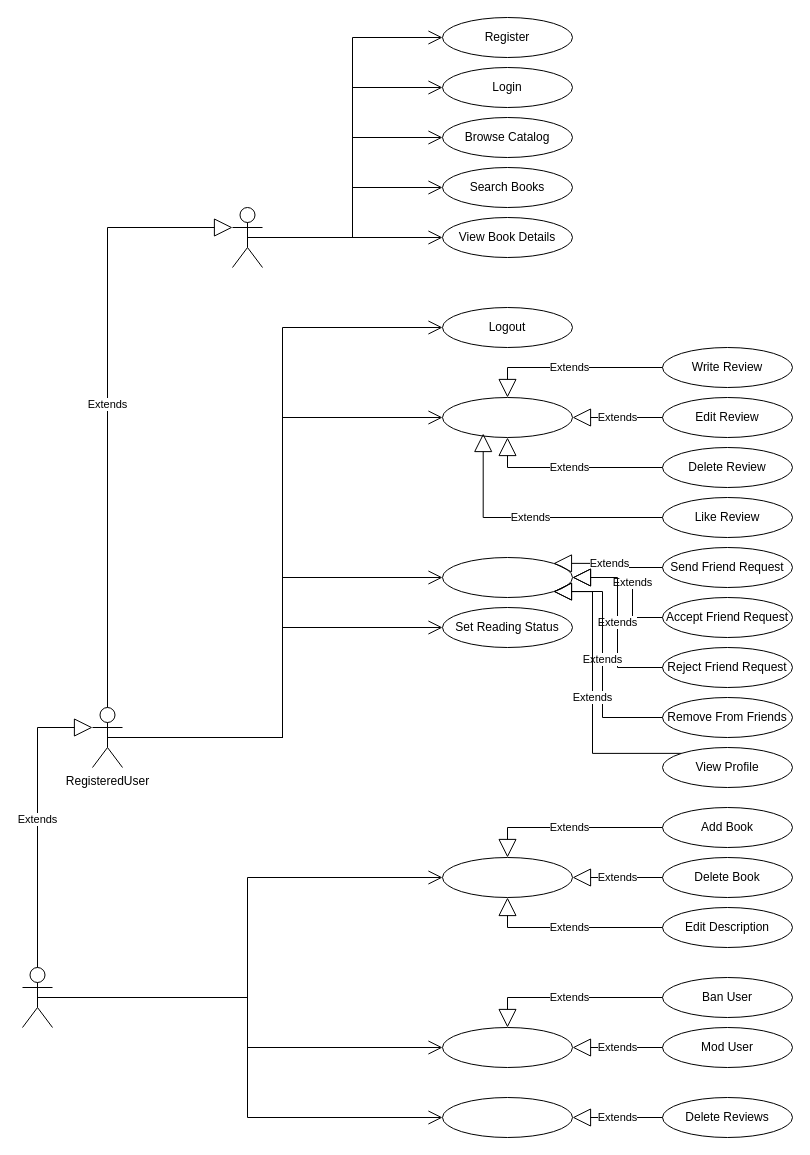
Image size: 810x1155. Some labels were removed from this diagram. The shapes that lost their labels are listed below. From the top down, each one's centre as x and y in pixels, then its label:
At (x=247, y=237): "Visitor".
At (x=507, y=417): "Manage Review".
At (x=507, y=577): "Manage Friends".
At (x=507, y=877): "Manage Books".
At (x=37, y=997): "Admin".
At (x=507, y=1047): "Manage Users".
At (x=507, y=1117): "Manage Reviews".
